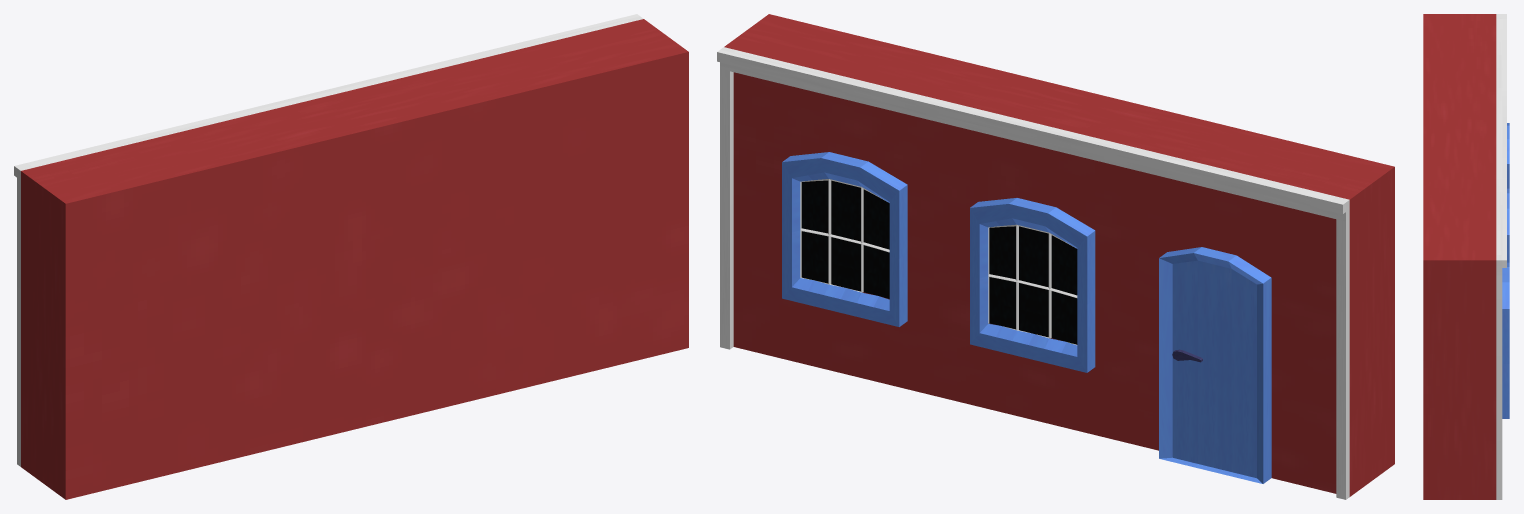
File: casaflo1vermelho.gltf
3 views of the same model, side by side, from view 1: azimuth 30°, elevation 25°; view 2: azimuth 150°, elevation 25°; view 3: azimuth 270°, elevation 25° (orthographic). The views are drawn at different scales.
Visible parts, largest first — view 1: cuboid; view 2: cuboid (×4); view 3: cuboid (×4).
Part boxes in pixels (<box>): cuboid: <box>14,14,688,499</box>; cuboid (×4): <box>717,14,1394,499</box>; cuboid (×4): <box>1423,14,1509,499</box>.
Size of the model in its own units: 3 by 1.36 by 0.4438.
1 material, 1 textured.
